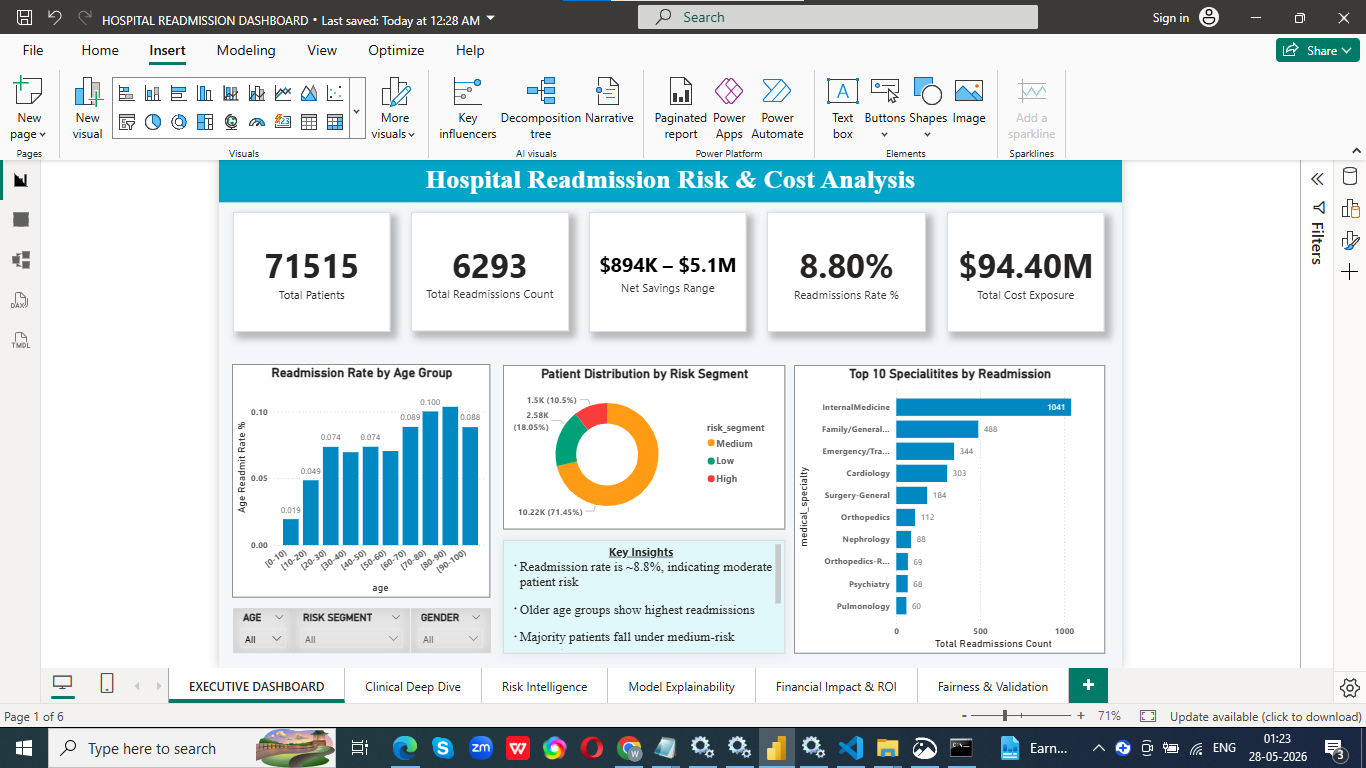

This screenshot's page, from the dashboard's own definition file:
{"tool":"powerbi","page":{"name":"EXECUTIVE DASHBOARD","canvas":[1280,720],"ordinal":0},"visuals":[{"type":"textbox","box":[0,0,1280,59.9],"z":0},{"type":"card","fields":{"Values":["public diabetes_clean.Readmissions Rate %"]},"box":[777.3,73.3,225.3,169.8],"z":1000},{"type":"card","fields":{"Values":["public diabetes_clean.Total Patients"]},"box":[19.7,73.3,223.5,169.8],"z":2000},{"type":"card","fields":{"Values":["public diabetes_clean.Total Readmissions Count"]},"box":[272.1,73.3,223.8,169],"z":3000},{"type":"card","fields":{"Values":["public diabetes_clean.Total Cost Exposure"]},"box":[1031.5,73.3,223.5,169.8],"z":4000},{"type":"card","fields":{"Values":["select","public patient_risk_analysis.Net Savings Range"]},"box":[524.9,73.3,223.5,169.8],"z":5000},{"type":"clusteredColumnChart","title":" Readmission Rate by Age Group","fields":{"Category":["public diabetes_clean.age"],"Y":["public diabetes_clean.Age Readmit Rate %"]},"box":[17.9,289.6,366.5,330.7],"z":6000},{"type":"donutChart","title":"Patient Distribution by Risk Segment","fields":{"Category":["public patient_risk_analysis.risk_segment"],"Y":["CountNonNull(public patient_risk_analysis.inpatient_visits)"]},"box":[403.1,290.6,400,232.8],"z":7000},{"type":"barChart","title":"Top 10 Specialitites by Readmission","fields":{"Category":["public diabetes_clean.medical_specialty"],"Y":["public diabetes_clean.Total Readmissions Count"]},"box":[815.6,290.6,440.6,409.4],"z":8000},{"type":"textbox","box":[403.1,539.1,400,160.9],"z":9000},{"type":"slicer","fields":{"Values":["public diabetes_clean.age"]},"box":[19.7,634.6,85.8,64.4],"z":10000},{"type":"slicer","fields":{"Values":["public diabetes_clean.gender"]},"box":[271.7,634.6,112.6,64.4],"z":11000},{"type":"slicer","fields":{"Values":["public patient_risk_analysis.risk_segment"]},"box":[105.5,634.6,166.3,64.4],"z":12000}]}

Visuals, with their boxes on the page's 1280x720 design canvas (x1, y1, x2, y2). These are canvas units, not pixel positions in the 1366x768 screenshot, which may show the page scaled, cropped or inside an application window:
textbox: 0, 0, 1280, 60
card - public diabetes_clean.Readmissions Rate %: 777, 73, 1003, 243
card - public diabetes_clean.Total Patients: 20, 73, 243, 243
card - public diabetes_clean.Total Readmissions Count: 272, 73, 496, 242
card - public diabetes_clean.Total Cost Exposure: 1032, 73, 1255, 243
card - select x public patient_risk_analysis.Net Savings Range: 525, 73, 748, 243
" Readmission Rate by Age Group" clusteredColumnChart: 18, 290, 384, 620
"Patient Distribution by Risk Segment" donutChart: 403, 291, 803, 523
"Top 10 Specialitites by Readmission" barChart: 816, 291, 1256, 700
textbox: 403, 539, 803, 700
slicer - public diabetes_clean.age: 20, 635, 106, 699
slicer - public diabetes_clean.gender: 272, 635, 384, 699
slicer - public patient_risk_analysis.risk_segment: 106, 635, 272, 699
